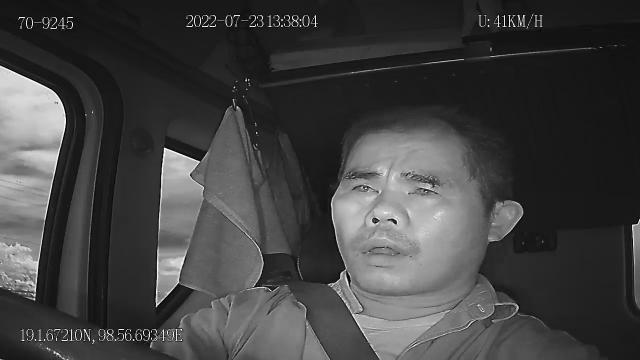SafeDriving: (398, 172, 448, 206), (344, 173, 384, 200)
Seatbelt: (287, 280, 383, 360)
